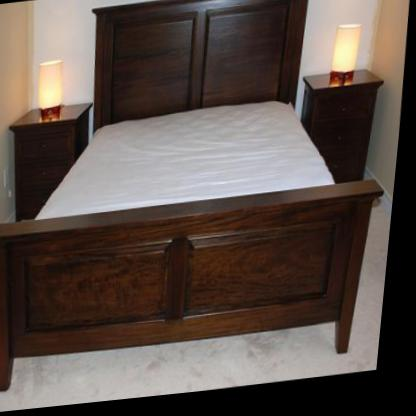Bed: (0, 0, 387, 395)
